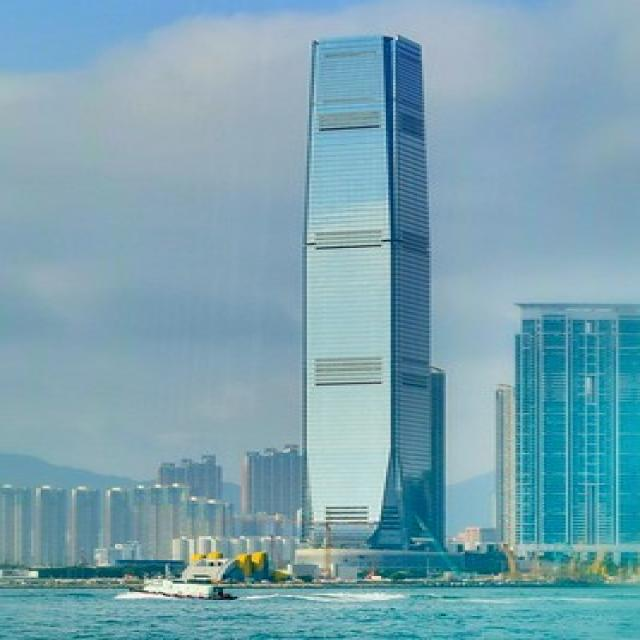building: (290, 21, 448, 582)
